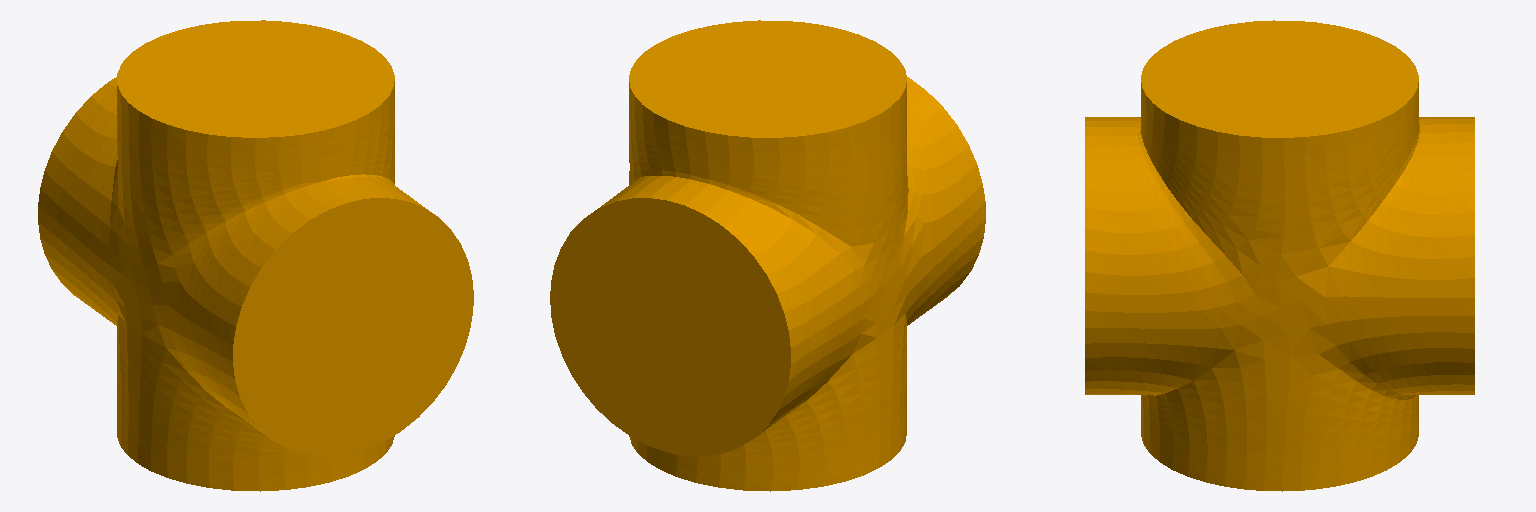
The robot description file, URDF, robot "object":
<robot name="object">
  <link name="object">
    <visual>
      <origin xyz="0 0 0"/>
      <geometry>
        <mesh filename="visual.obj" scale="1 1 1"/>
      </geometry>
    </visual>
    <collision>
      <origin xyz="0 0 0"/>
      <geometry>
        <mesh filename="visual.obj" scale="1 1 1"/>
      </geometry>
    </collision>
    <inertial>
      <mass value="0.05"/>
      <inertia ixx="6.243423237284357e-05" iyy="4.706012974136567e-05" izz="4.7069019788264085e-05" ixy="2.312282514052746e-09" ixz="6.050349661477375e-09" iyz="1.9700865775821563e-09"/>
    </inertial>
  </link>
</robot>

--- Render facts (derived) ---
3 views of the same robot in one strip: view 1: azimuth 30°, elevation 25°; view 2: azimuth 150°, elevation 25°; view 3: azimuth 270°, elevation 25° (orthographic).
Model object with 1 links and 0 joints (none), rooted at object, posed all joints at 0.
Visible links, largest first — view 1: object; view 2: object; view 3: object.
Boxes of the visible links, x1,y1,x2,y2 form: object: (38, 20, 473, 491); object: (550, 20, 985, 491); object: (1085, 20, 1474, 491).
Size in the robot's own frame: 0.0685 by 0.096 by 0.096 metres.
Meshes: 1 distinct files referenced, 1 mesh visuals loaded (1 OBJ).
